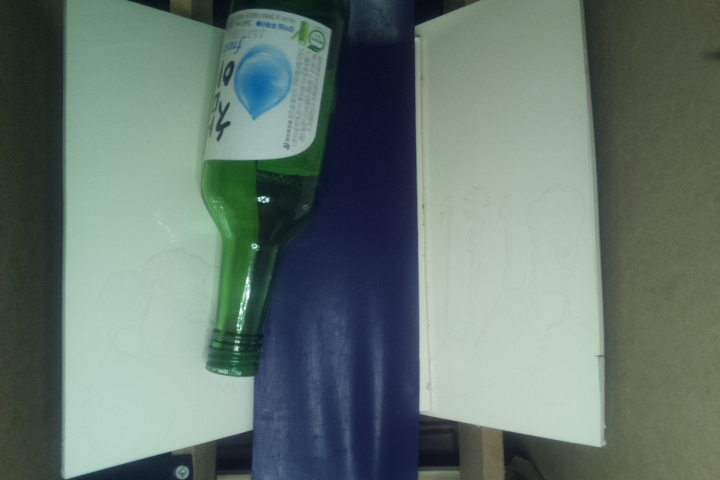soju: (193, 1, 338, 380)
